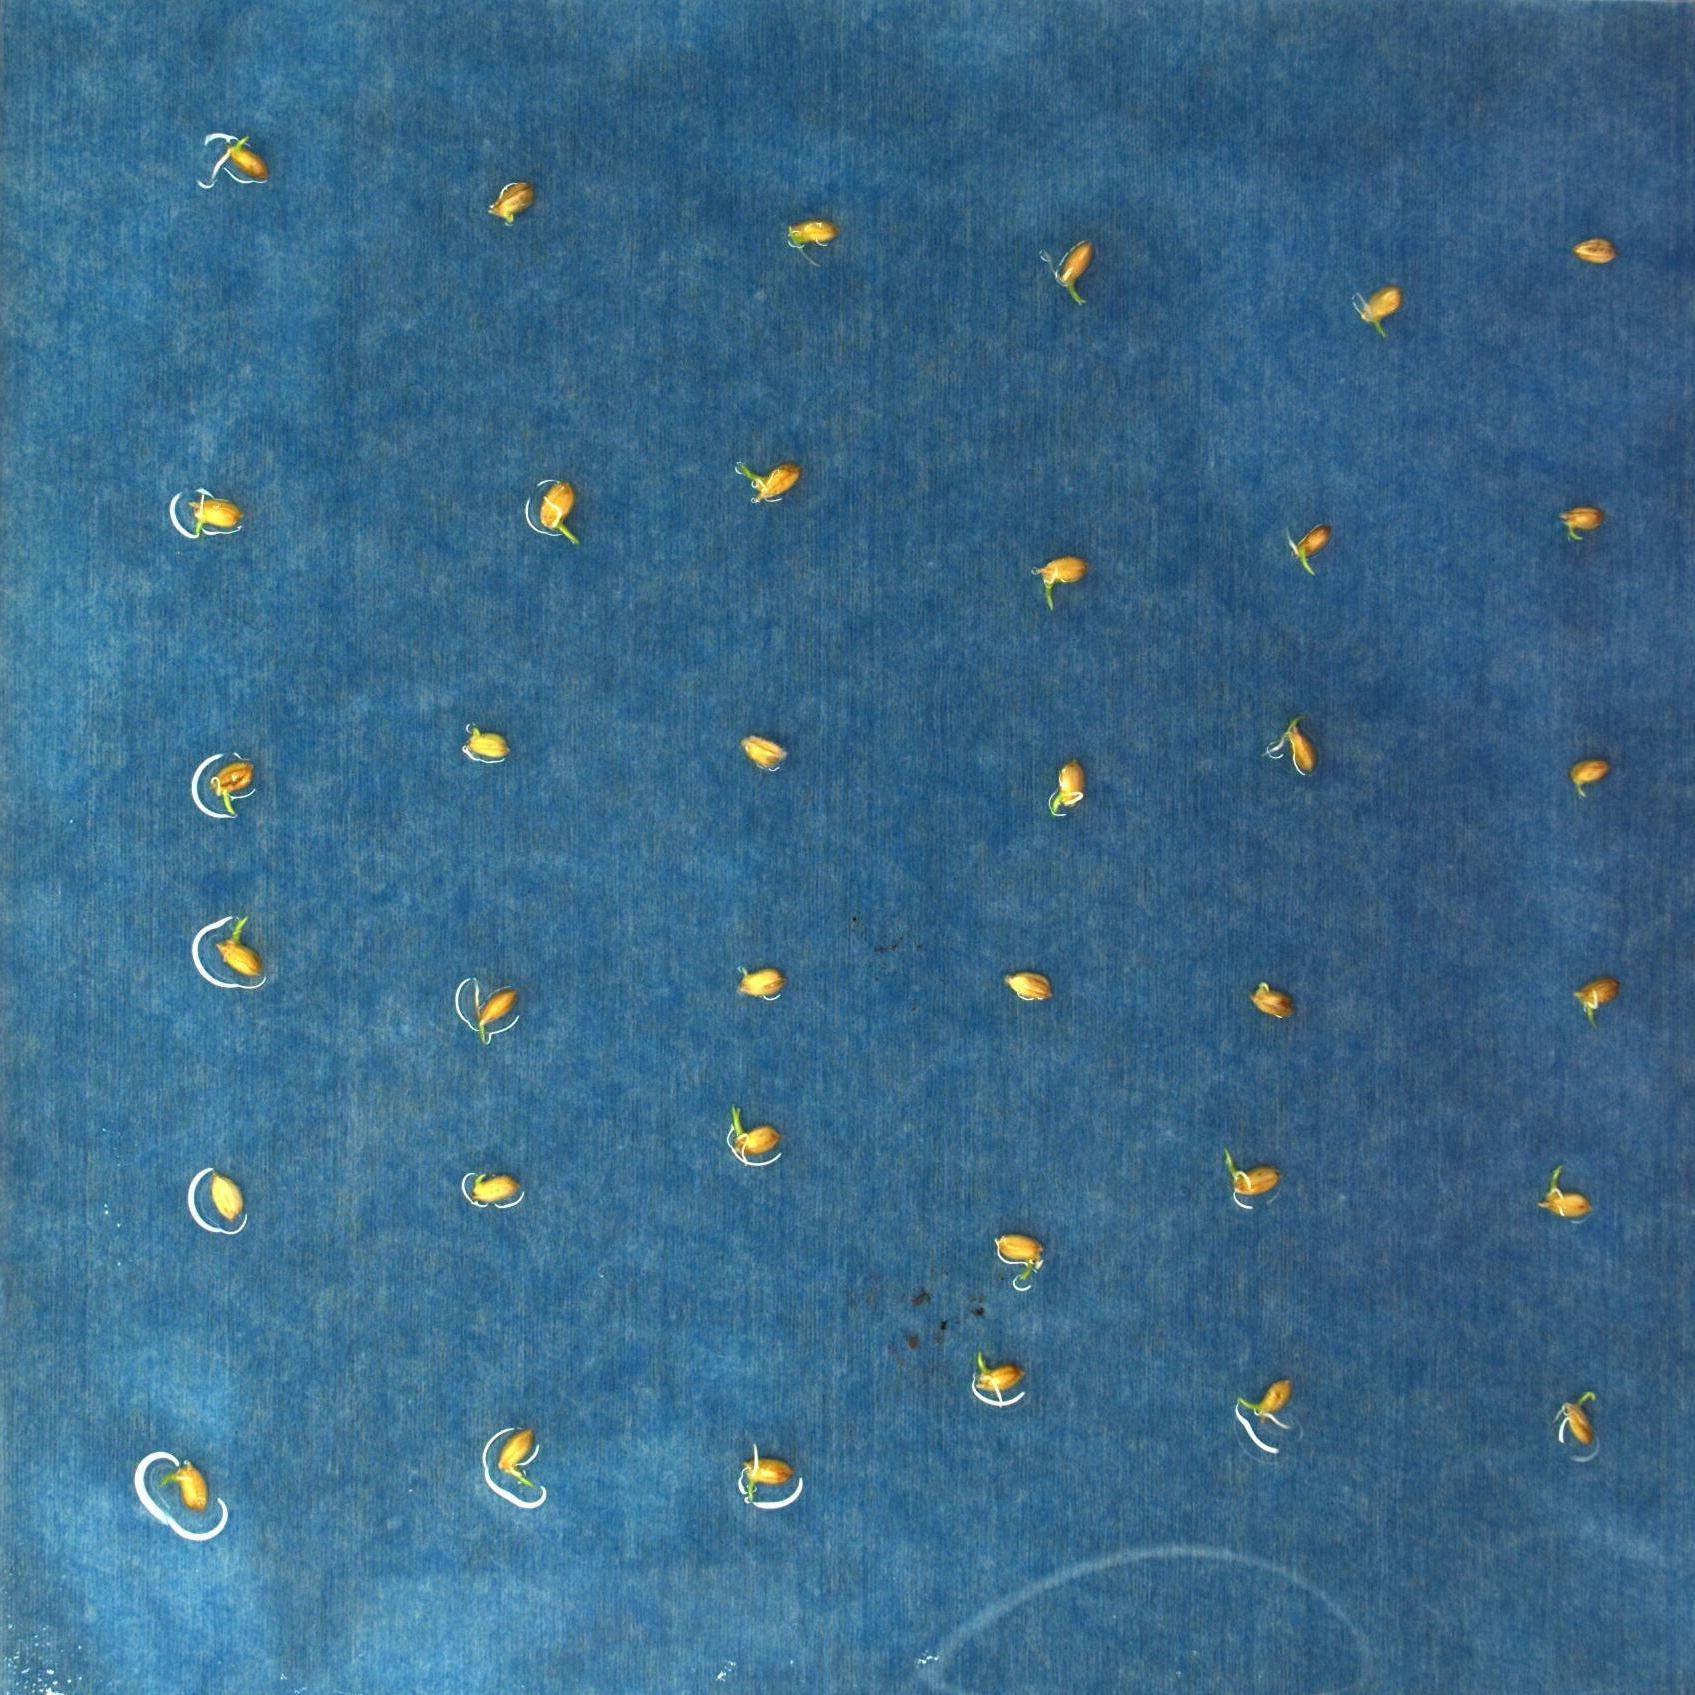not sprout: (1046, 241, 1097, 307), (470, 976, 518, 1045), (539, 480, 587, 546), (160, 1458, 216, 1515), (1237, 1378, 1298, 1426), (211, 133, 269, 183), (1284, 523, 1338, 574), (973, 1346, 1028, 1395), (191, 492, 245, 540), (1357, 286, 1405, 335), (1574, 975, 1619, 1028), (213, 759, 253, 816), (211, 1167, 247, 1226), (1052, 759, 1087, 820), (487, 179, 536, 220), (1563, 1388, 1597, 1447), (734, 964, 790, 1000), (1253, 981, 1301, 1020), (740, 736, 790, 771), (789, 217, 840, 251), (470, 1170, 522, 1205), (1562, 503, 1607, 540), (1571, 757, 1613, 795), (466, 726, 511, 761), (1572, 237, 1617, 270), (1006, 972, 1055, 1001)
sprout: (1267, 714, 1318, 779), (737, 456, 804, 506), (728, 1101, 782, 1159), (740, 1447, 792, 1509), (217, 914, 264, 979), (1538, 1163, 1596, 1215), (1225, 1147, 1284, 1197), (497, 1425, 539, 1492), (993, 1232, 1048, 1284), (1043, 556, 1087, 612)
